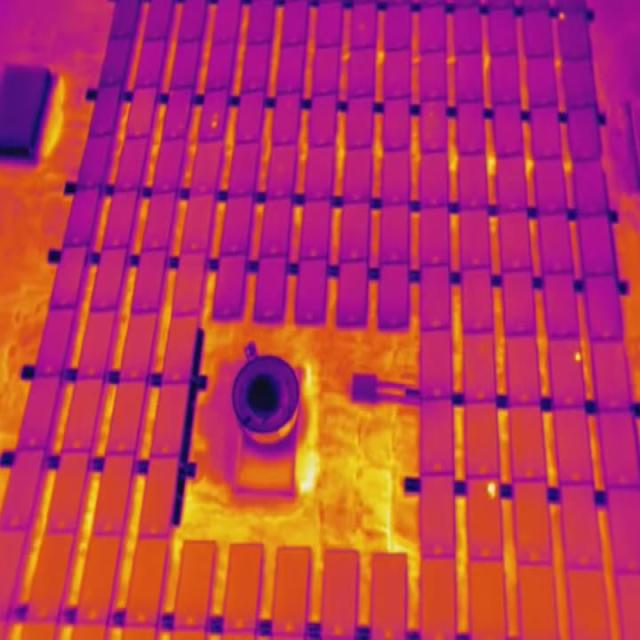Orange-Spots: (486, 481, 497, 498), (212, 112, 218, 128), (575, 352, 581, 362), (559, 12, 565, 20)
